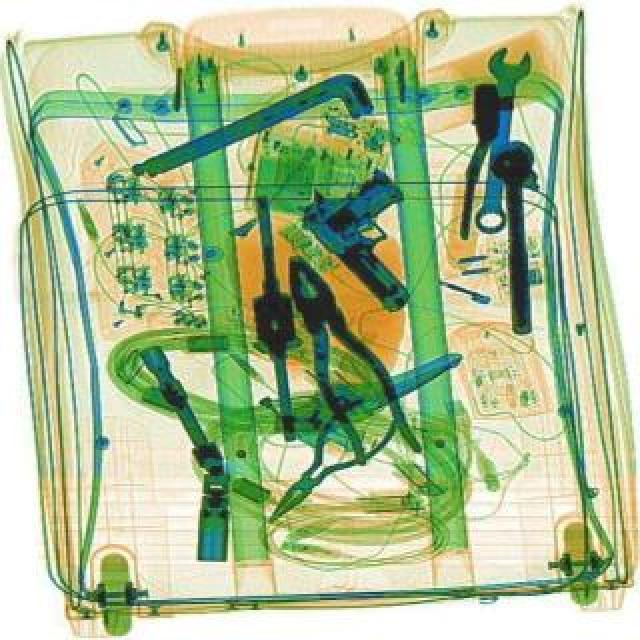gun: (290, 150, 472, 316)
scissors: (466, 44, 536, 236)
wrench: (260, 240, 428, 474), (248, 388, 408, 540)
